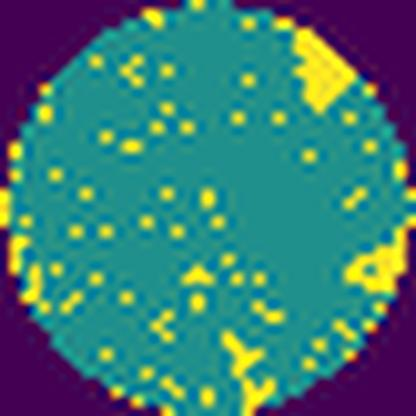Edge-Loc: (283, 18, 362, 117), (341, 216, 415, 297)
